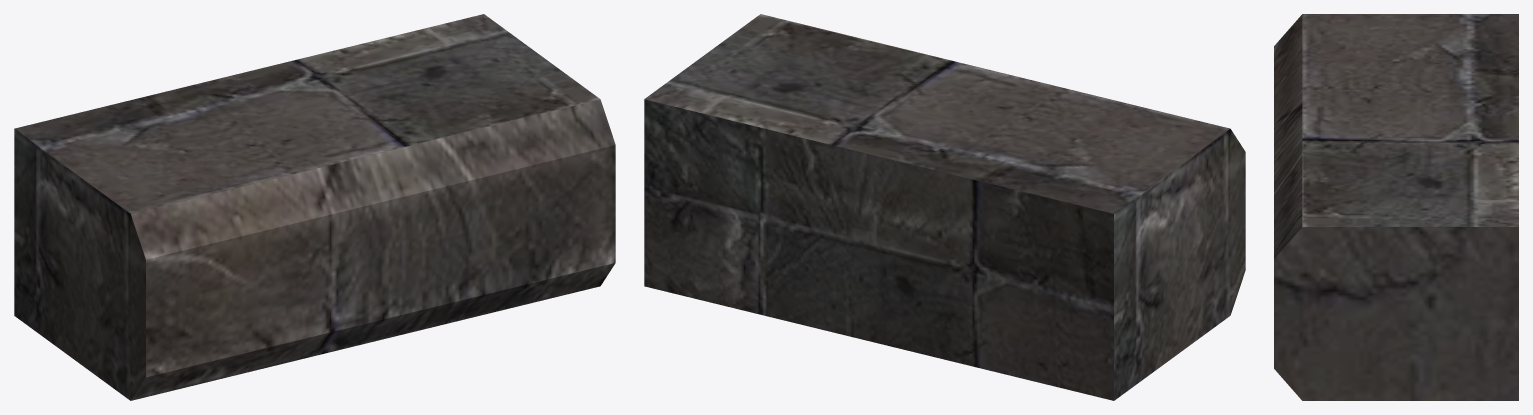
3 renders of one model, left to right at view 1: azimuth 30°, elevation 25°; view 2: azimuth 150°, elevation 25°; view 3: azimuth 270°, elevation 25°, orthographic. The views are drawn at different scales.
Parts seen in each view (by area): view 1: model_Object44; view 2: model_Object44; view 3: model_Object44.
Part boxes in pixels (x1=…): model_Object44: x1=14, y1=14, x2=615, y2=400; model_Object44: x1=644, y1=14, x2=1245, y2=400; model_Object44: x1=1274, y1=14, x2=1518, y2=400.
Size of the model in its own units: 1.95 by 0.7429 by 0.9482.
1 material, 1 textured.
